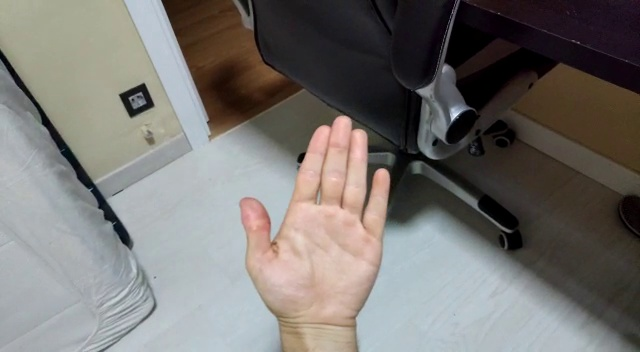Palm: (236, 111, 392, 332)
